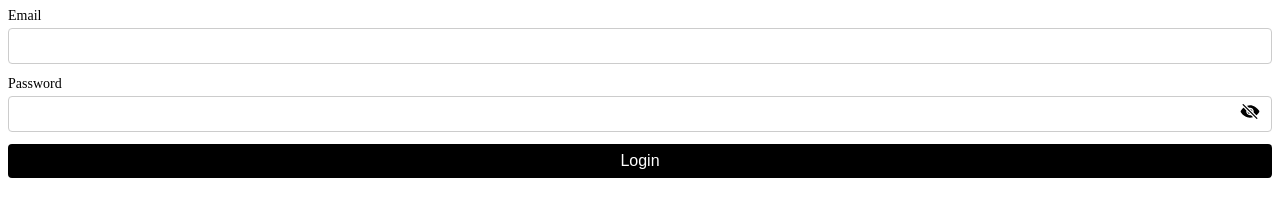
it: LoginForm › displays a fallback message when login fails without a server message
The image size is (1280, 224).
Type "reader@example.com" into the field labelled "Email". click: (640, 46)
box: [8,28,1272,64]
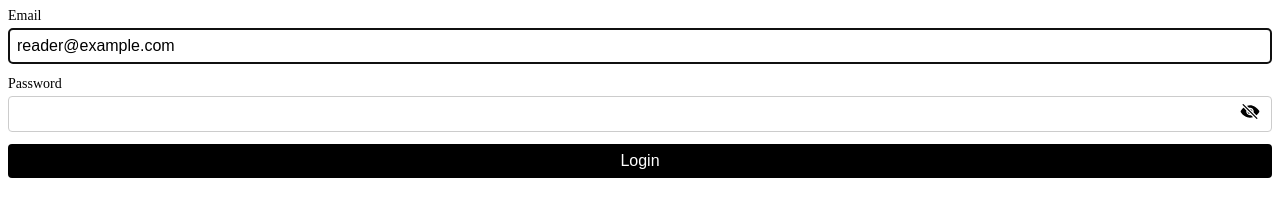
Type "password123" into the password field labelled "Password". click: (640, 114)
box: [8,96,1272,132]
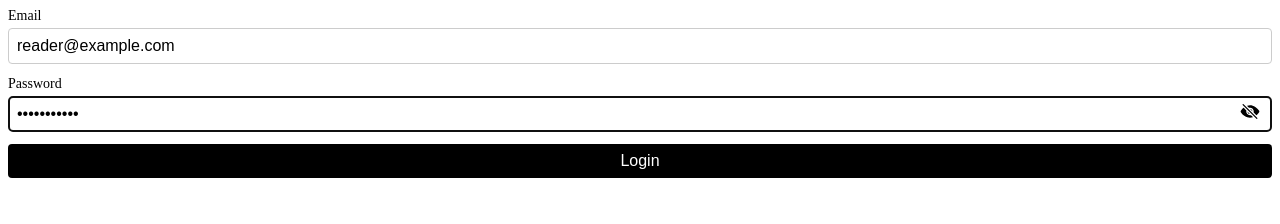
Click the button "Login". click: (640, 161)
box: [8,144,1272,178]
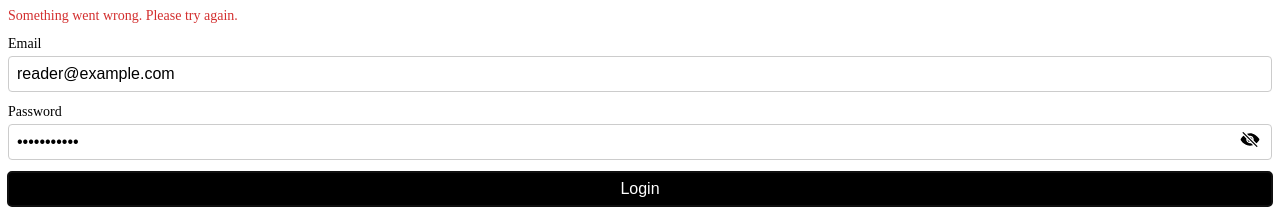
Expected: the text "Something went wrong. Please try again." is shown, [8,8,238,23]
